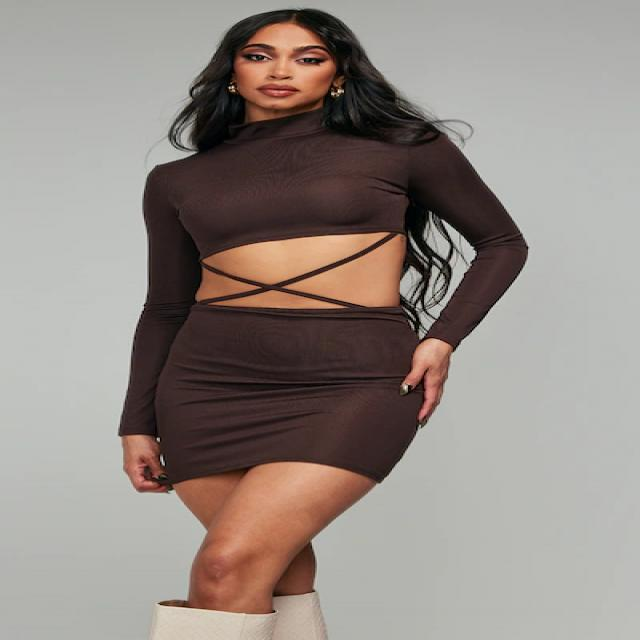clothes: (69, 127, 492, 514)
